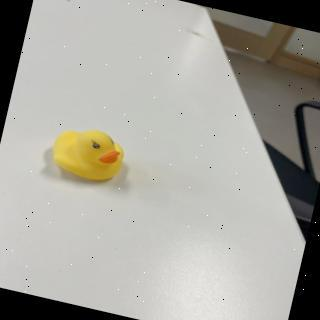duck_regular: (47, 121, 131, 188)
